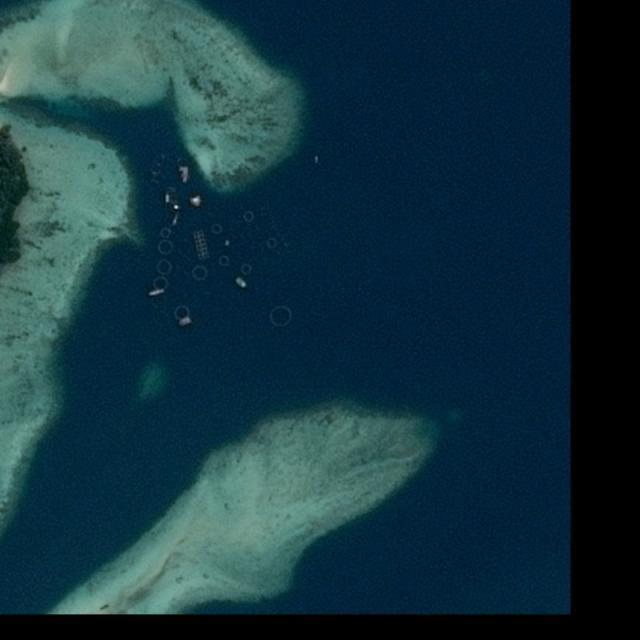ship: (148, 289, 165, 298), (235, 278, 247, 289), (314, 156, 320, 164), (166, 194, 170, 204)
